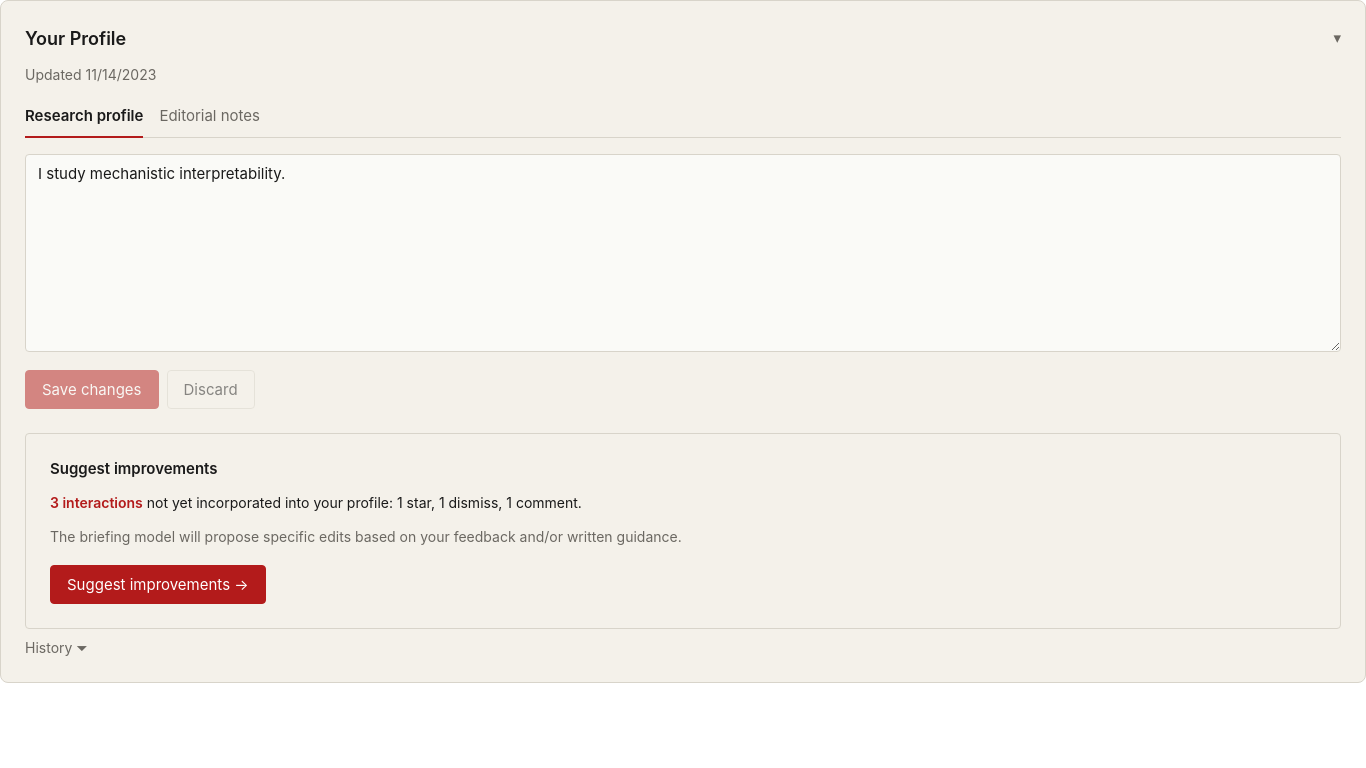
YourProfile › Suggest improvements is disabled when the draft is dirty
Replace the text in the text box with "unsaved edit" at [683, 252], box [25,154,1341,352]
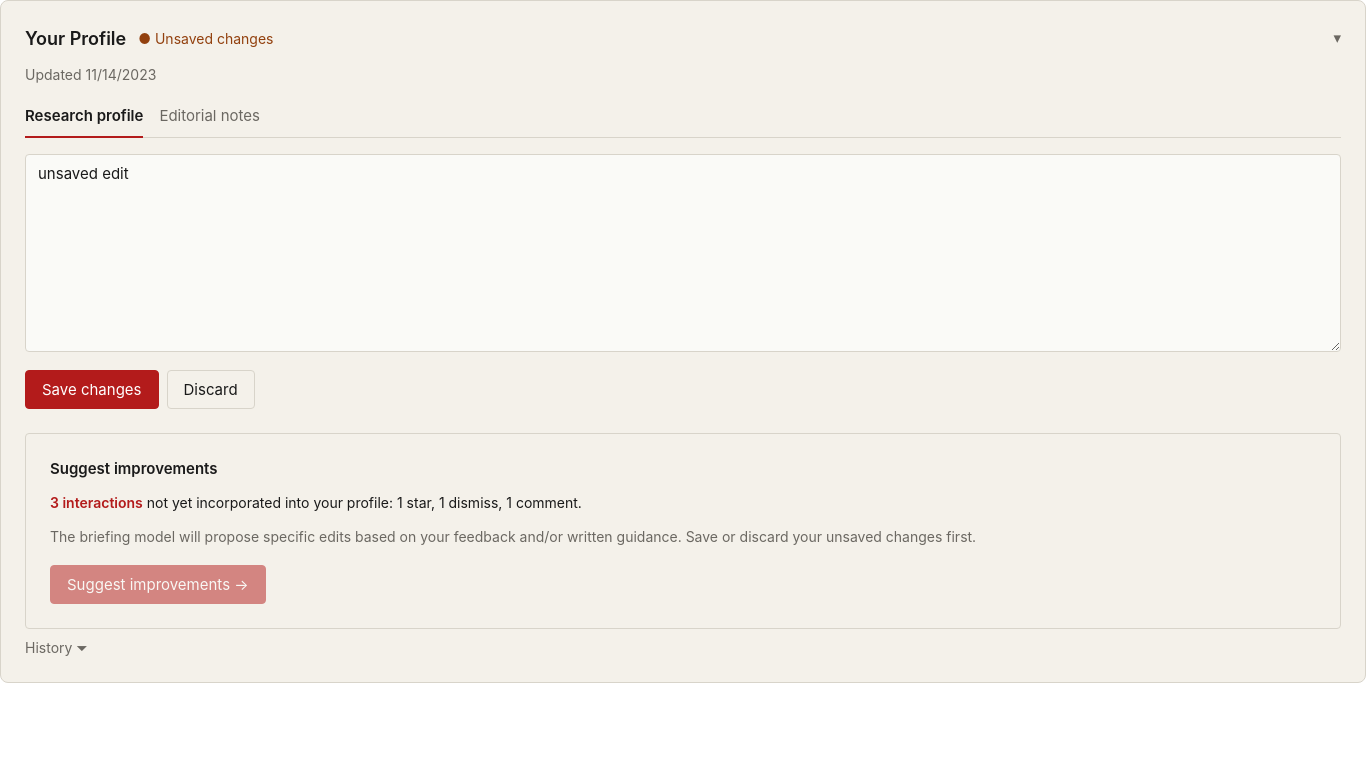
Expected: the button "Suggest improvements →" is disabled, [50,565,266,604]
